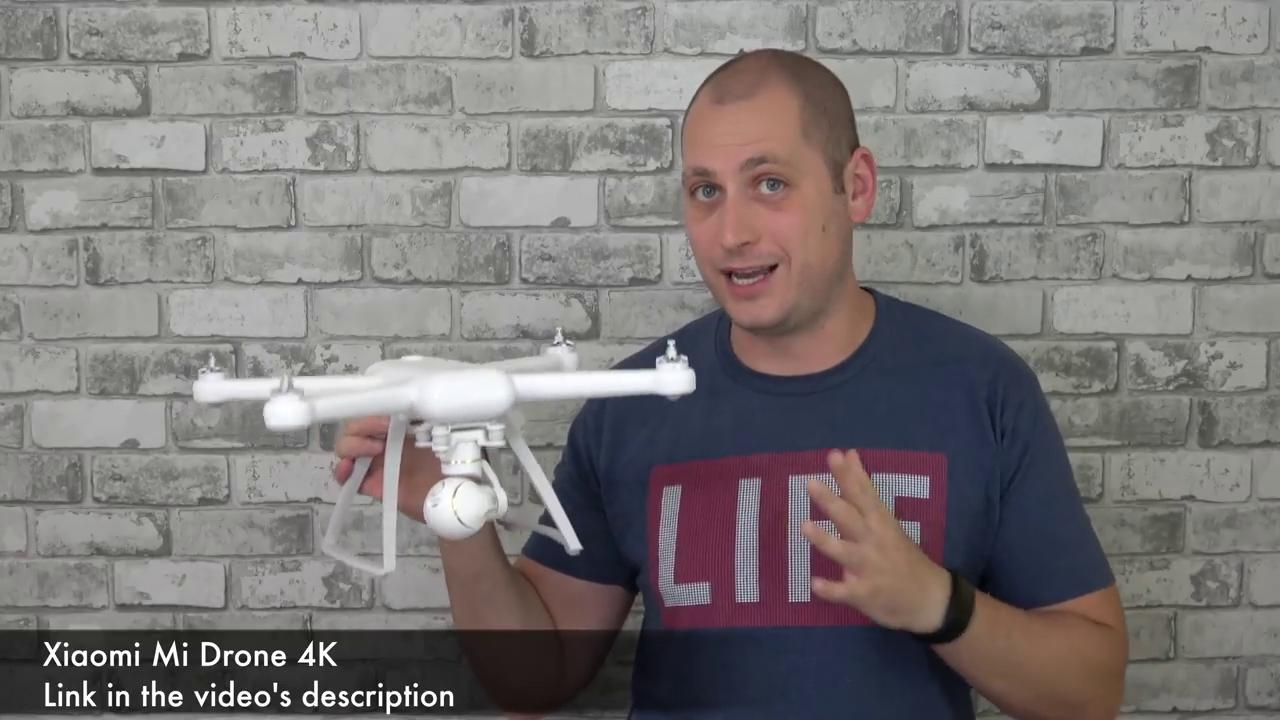drone: (176, 312, 702, 454)
